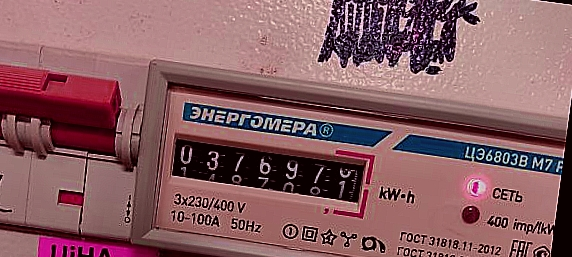0: (177, 142, 194, 165)
1: (334, 178, 346, 201)
3: (204, 148, 220, 171)
6: (256, 151, 274, 176)
7: (309, 159, 326, 184), (230, 149, 247, 173)
9: (283, 157, 299, 180)
screen: (156, 123, 378, 222)
